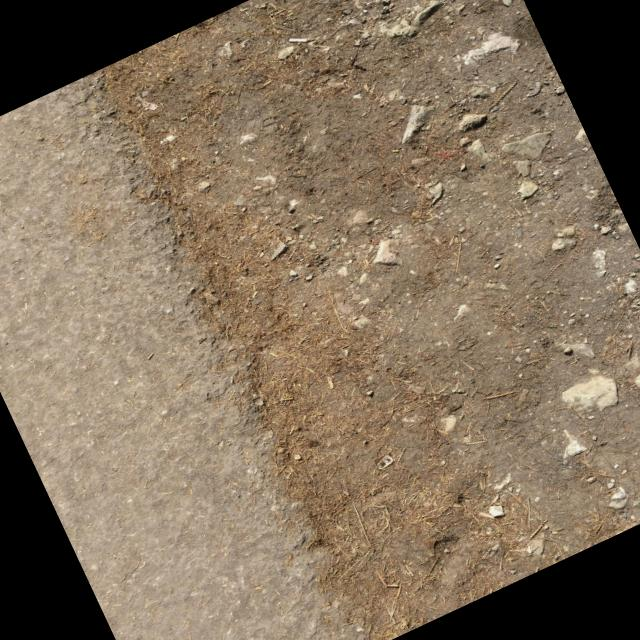Cigarette: (289, 39, 310, 43)
Pop tab: (378, 455, 395, 470)
